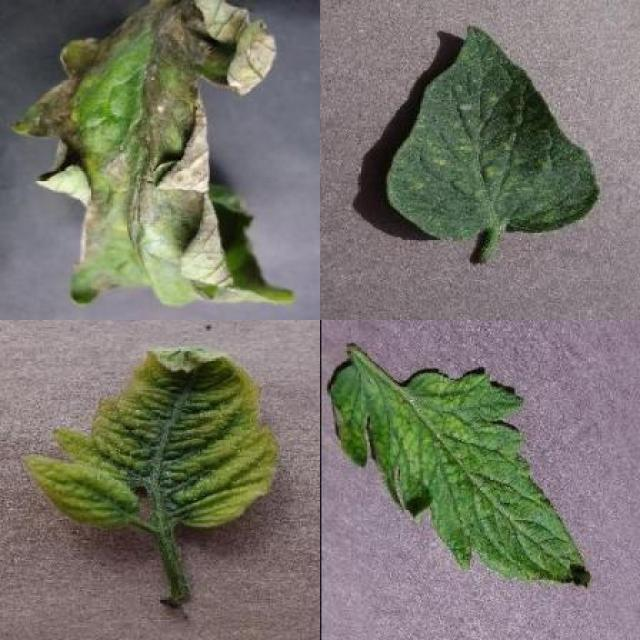Late Blight: (10, 0, 296, 307)
Mosaic Virus: (326, 364, 594, 590)
Spider Mites: (388, 26, 598, 237)
Yellow Leaf Curl Virus: (54, 345, 280, 522), (23, 451, 143, 529)
